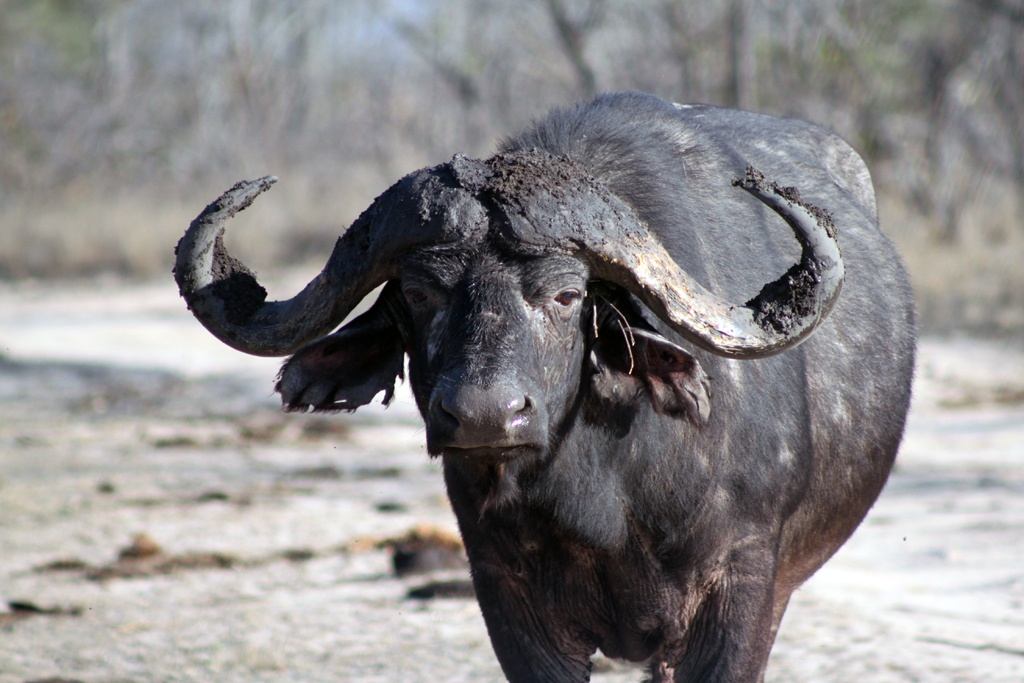buffalo: (175, 93, 919, 683)
